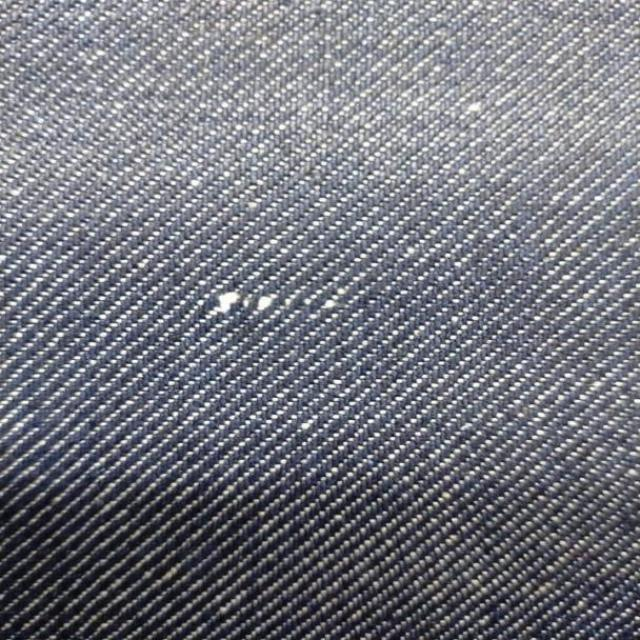Knot: (215, 292, 279, 314)
